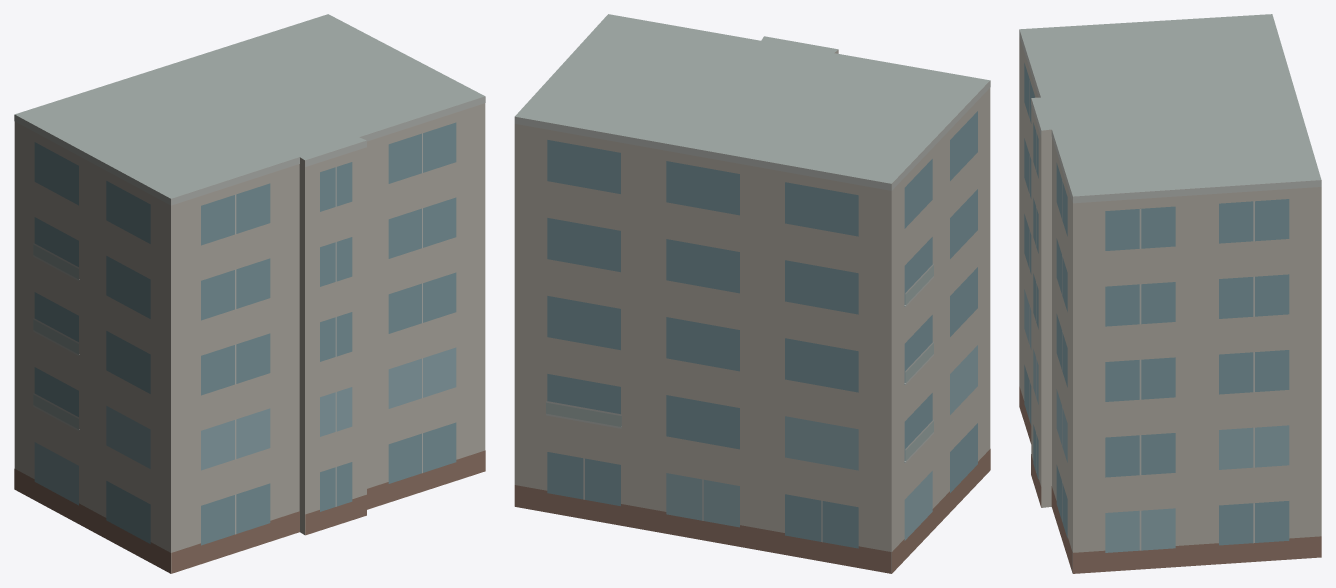
The model's file is survey-upis-32739156.glb.
3 views of the same model, side by side, from view 1: azimuth 30°, elevation 25°; view 2: azimuth 150°, elevation 25°; view 3: azimuth 270°, elevation 25° (orthographic). The views are drawn at different scales.
Visible parts, largest first — view 1: survey-upis-32739156.tmp; view 2: survey-upis-32739156.tmp; view 3: survey-upis-32739156.tmp.
Boxes of the visible parts, bbox=[...] form: survey-upis-32739156.tmp: bbox=[14, 14, 485, 573]; survey-upis-32739156.tmp: bbox=[514, 14, 990, 573]; survey-upis-32739156.tmp: bbox=[1019, 14, 1321, 573].
Bounding box in the file's own units: 14.02 × 13.5 × 9.81.
